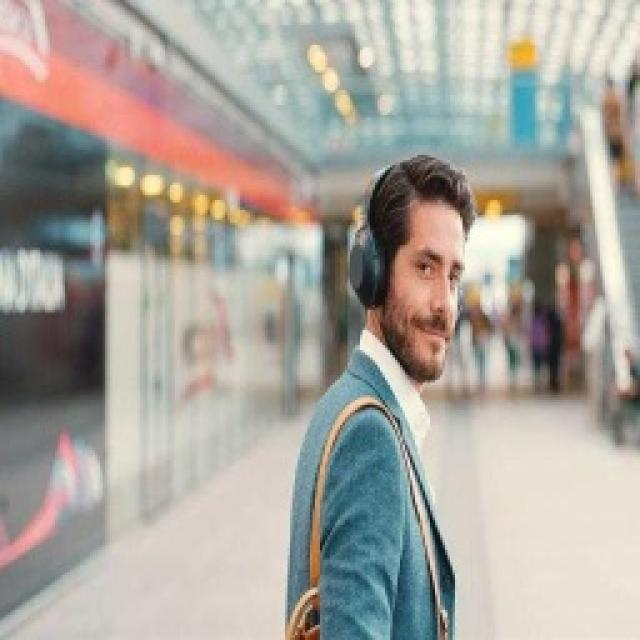headphones: (345, 162, 395, 308)
